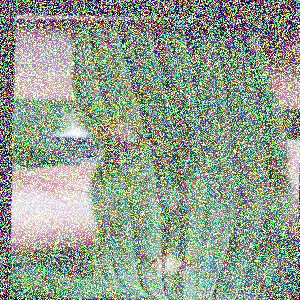Brown_Spot: (90, 98, 155, 181), (131, 237, 195, 282)
